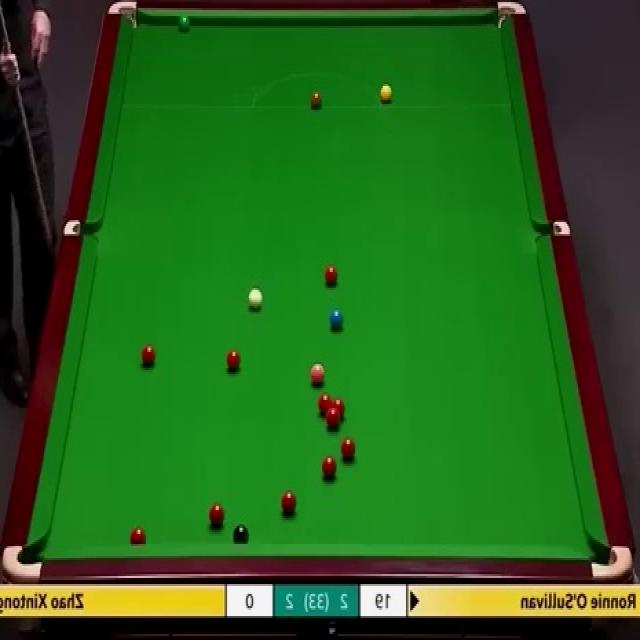black-ball: (233, 524, 251, 546)
blue-ball: (329, 308, 345, 333)
brown-ball: (310, 88, 324, 111)
green-ball: (176, 13, 191, 32)
pink-ball: (310, 361, 326, 387)
red-ball: (224, 347, 242, 375), (281, 490, 299, 517), (321, 455, 338, 483), (209, 503, 226, 529), (341, 437, 356, 463), (322, 266, 338, 290), (141, 343, 156, 368), (318, 394, 332, 418), (130, 526, 146, 546), (326, 410, 339, 430), (332, 398, 345, 418)
white-ball: (246, 285, 264, 313)
yellow-ball: (380, 83, 394, 103)
